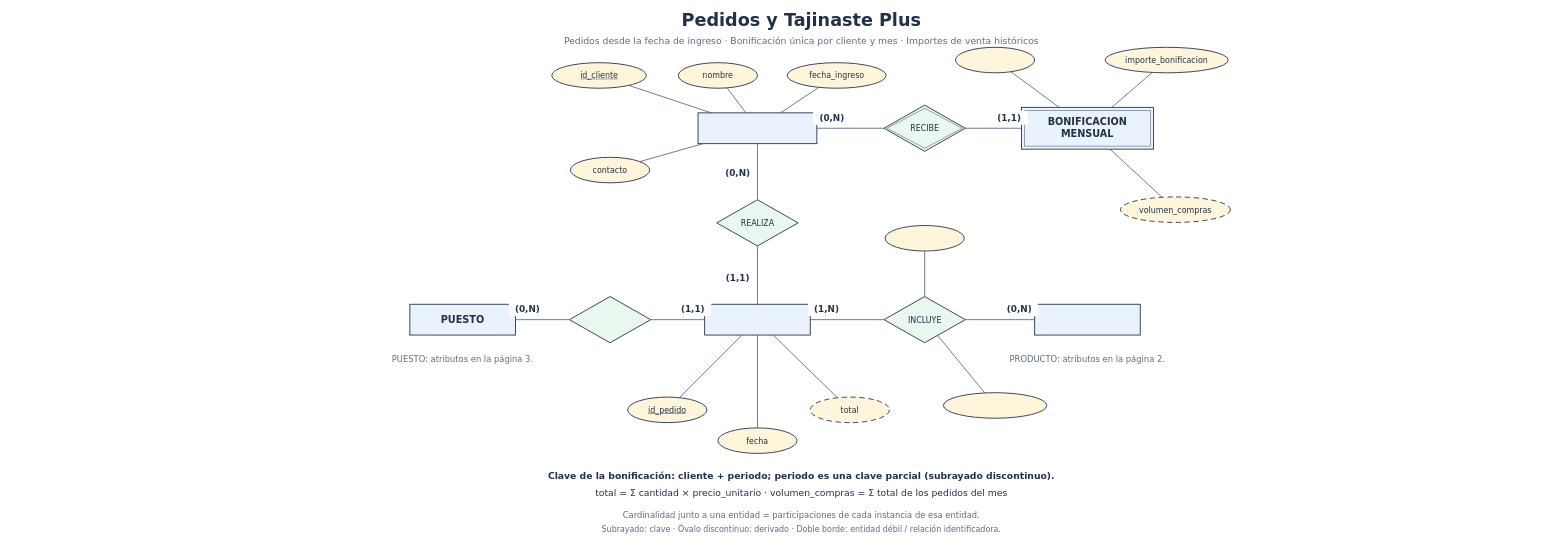
Some shapes in this 1550 by 542 pixel diagram are drawn without their labels. Here are the shapes that lost their labels. From the top down, the centre of each, then its label:
At (x=995, y=60): "periodo".
At (x=757, y=128): "CLIENTE_PLUS".
At (x=924, y=238): "cantidad".
At (x=610, y=319): "GESTIONA".
At (x=757, y=319): "PEDIDO".
At (x=1087, y=319): "PRODUCTO".
At (x=995, y=405): "precio_unitario".
